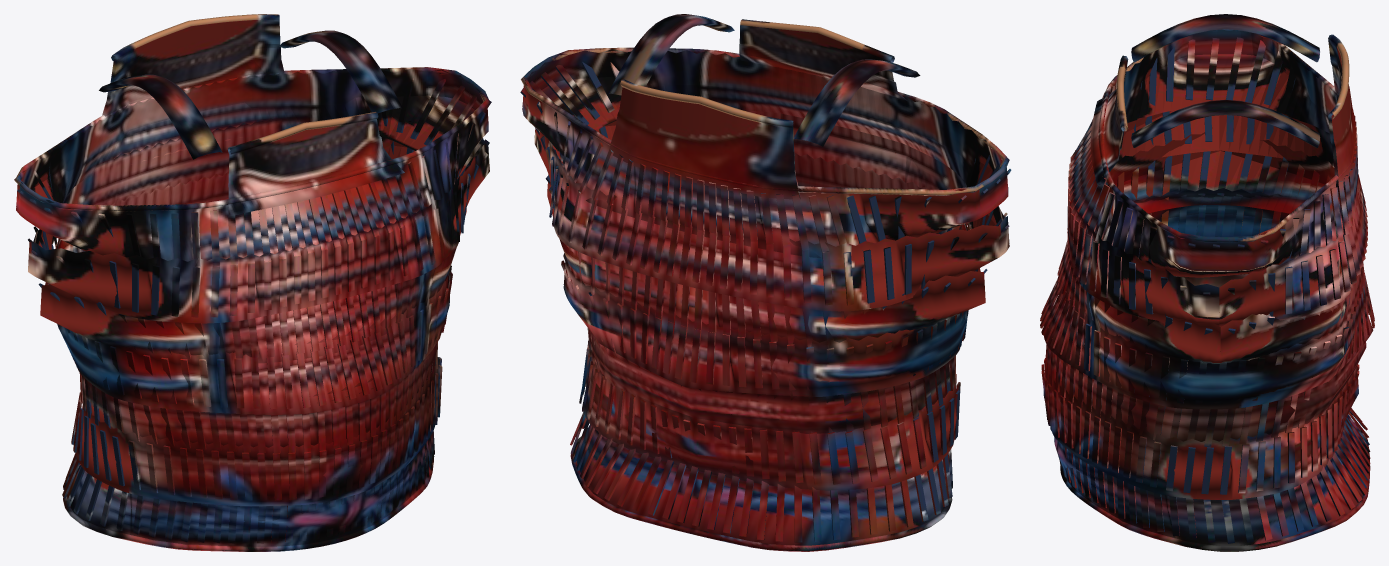
3 renders of one model, left to right at view 1: azimuth 30°, elevation 25°; view 2: azimuth 150°, elevation 25°; view 3: azimuth 270°, elevation 25°, orthographic. The views are drawn at different scales.
Visible parts, largest first — view 1: Spine2, Spine, Spine1; view 2: Spine2, Spine, Spine1; view 3: Spine2, Spine, Spine1.
Boxes of the visible parts, x1,y1,x2,y2 form: Spine2: (14,14,491,363); Spine: (62,357,442,551); Spine1: (57,265,452,453); Spine2: (520,14,1011,347); Spine: (570,340,960,551); Spine1: (561,253,968,433); Spine2: (1057,14,1367,364); Spine: (1041,358,1370,551); Spine1: (1040,188,1374,447).
Size of the model in its own units: 0.5556 by 0.491 by 0.3631.
4 materials, 4 textured.
